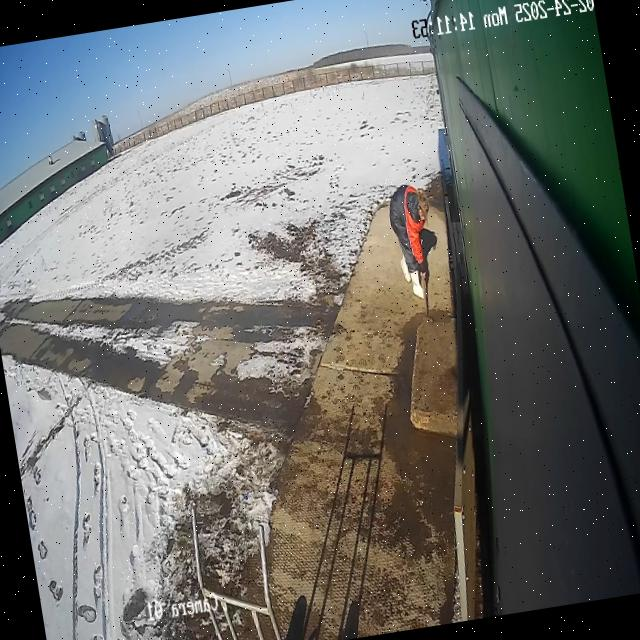Red uniform: (383, 178, 447, 304)
